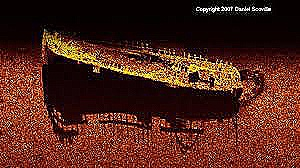ship: (41, 27, 244, 96)
